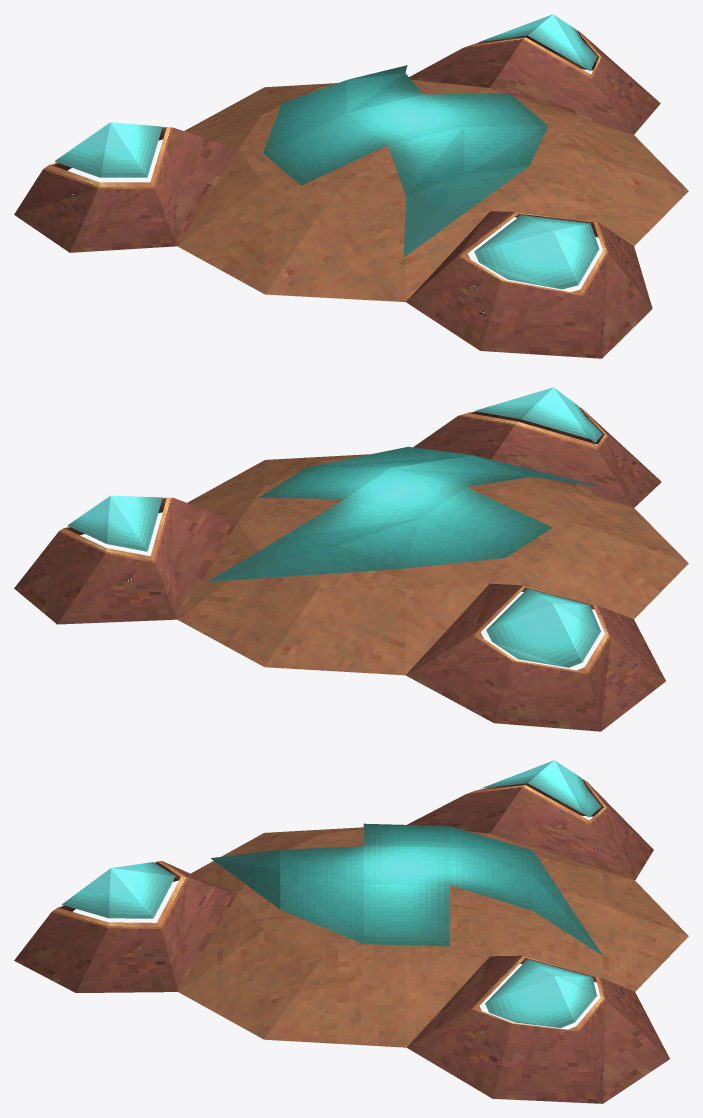
Rendered from orb-cache-top-lod1.glb.
3 views of the same model, one above another, from view 1: azimuth 30°, elevation 25°; view 2: azimuth 150°, elevation 25°; view 3: azimuth 270°, elevation 25° (orthographic).
Visible parts, largest first — view 1: orb-cache-top-lod1; view 2: orb-cache-top-lod1; view 3: orb-cache-top-lod1.
Part boxes in pixels (x1,y1,x2,y2): orb-cache-top-lod1: (14, 14, 688, 358); orb-cache-top-lod1: (14, 387, 688, 731); orb-cache-top-lod1: (14, 760, 688, 1103).
Bounding box in the file's own units: 3.48 × 0.5304 × 3.41.
Materials: 4 (4 with a texture image).
